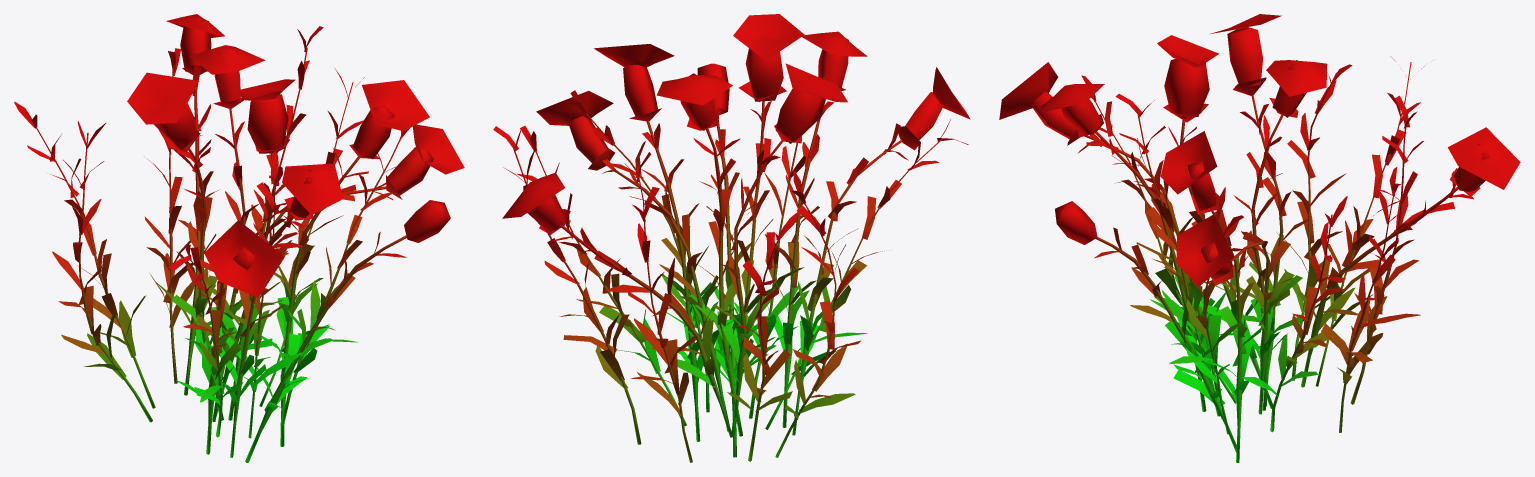
File: Var3_LOD2.fbx
3 views of the same model, side by side, from view 1: azimuth 30°, elevation 25°; view 2: azimuth 150°, elevation 25°; view 3: azimuth 270°, elevation 25° (orthographic). The views are drawn at different scales.
Visible parts, largest first — view 1: _4msd_Var3_LOD2; view 2: _4msd_Var3_LOD2; view 3: _4msd_Var3_LOD2.
Part boxes in pixels (<box>): _4msd_Var3_LOD2: <box>14,14,464,462</box>; _4msd_Var3_LOD2: <box>493,14,970,462</box>; _4msd_Var3_LOD2: <box>999,14,1520,462</box>.
Bounding box in the file's own units: 22.67 × 24.68 × 28.63.
